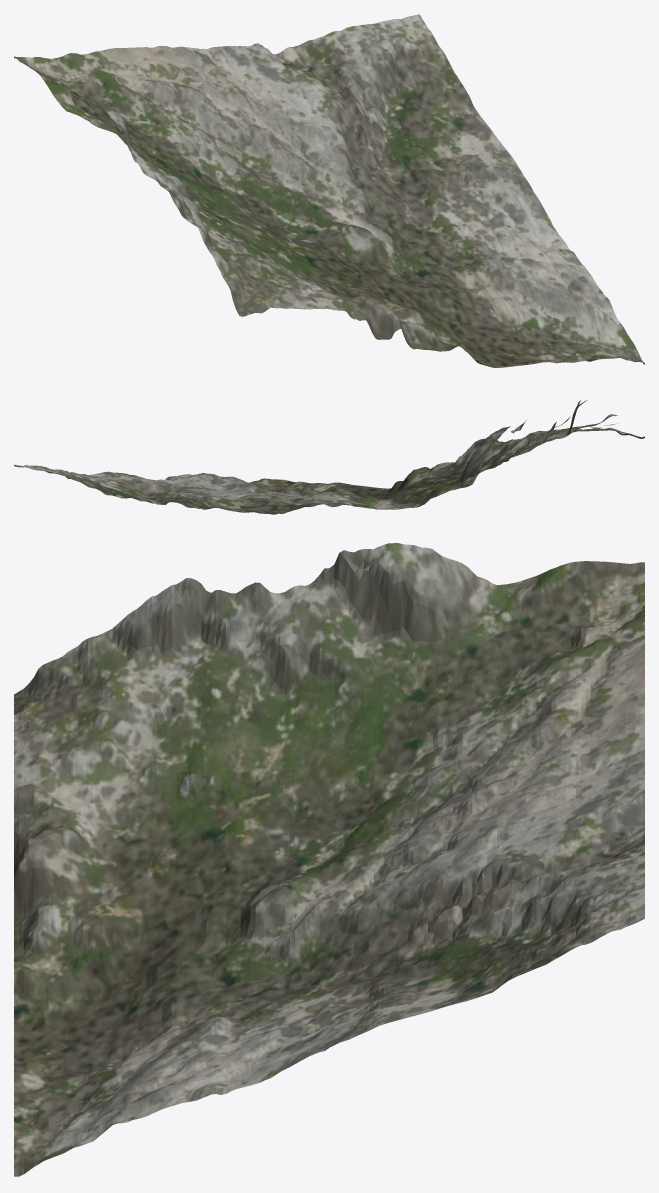
3 renders of one model, top to bottom at view 1: azimuth 30°, elevation 25°; view 2: azimuth 150°, elevation 25°; view 3: azimuth 270°, elevation 25°, orthographic. The views are drawn at different scales.
Size of the model in its own units: 250 by 151 by 241.
1 material, 1 textured.
